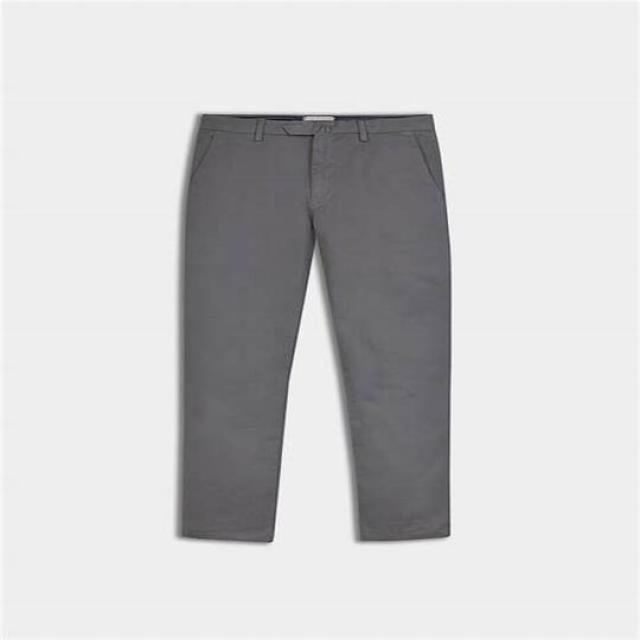long-pants: (176, 110, 452, 548)
